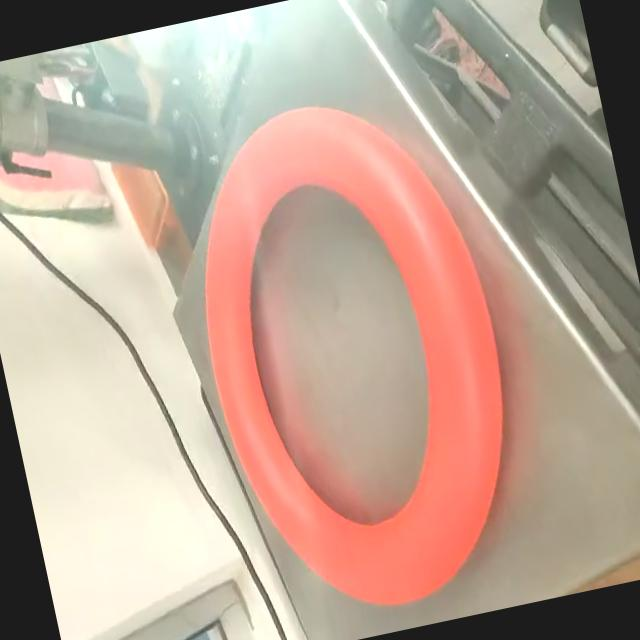note: (151, 68, 555, 639)
